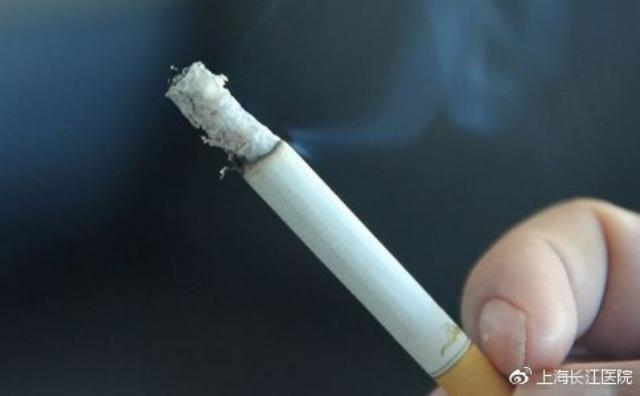Cigarette: (150, 56, 512, 395)
